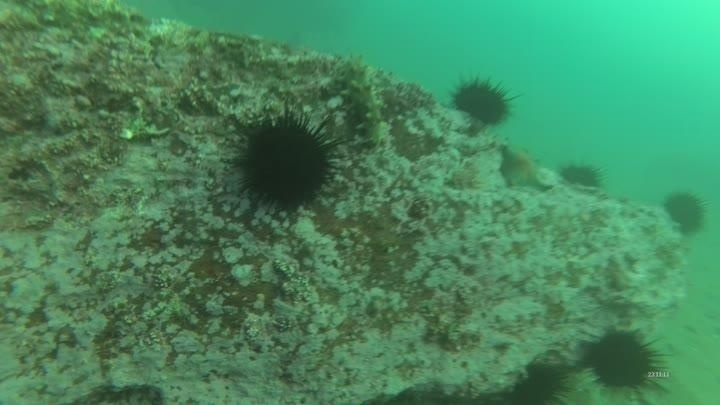echinus: (229, 106, 341, 216), (577, 322, 670, 397), (448, 73, 518, 129), (505, 359, 572, 404), (661, 188, 709, 237), (557, 159, 606, 192)
holothurian: (334, 52, 394, 152)
starfish: (496, 141, 553, 193)
